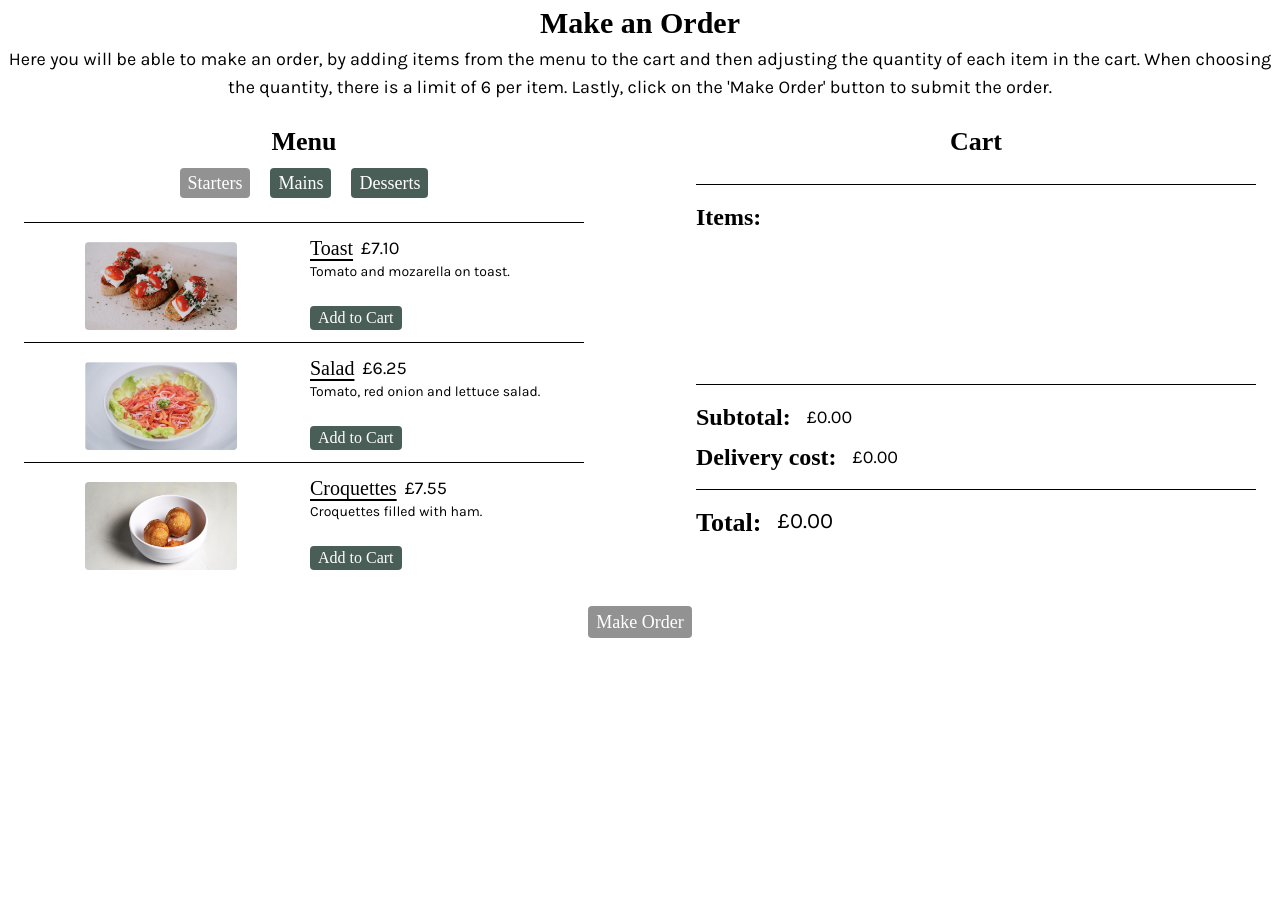
MakeAnOrder › displays Cart correctly, when a menu item is added to the cart.
Click the button "Add to Cart" below "Tomato and mozarella on toast." at (356, 318), box top-left (310, 306), bottom-right (402, 330)
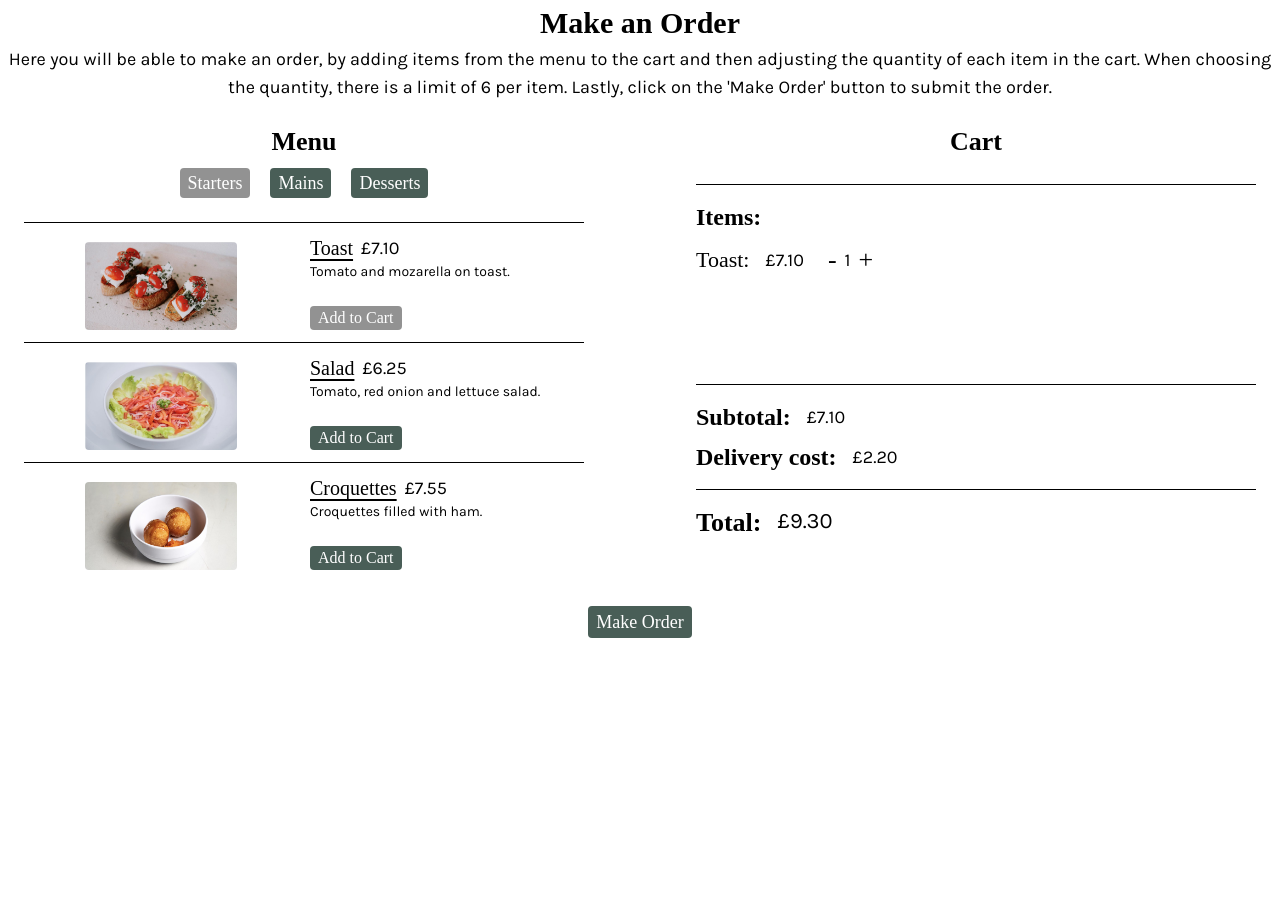
expect the element with test id "order-items-section" reads "Toast: £7.10 - 1 +": met, box top-left (696, 241), bottom-right (881, 279)
expect the text "Toast:" is shown: met, box top-left (696, 245), bottom-right (750, 275)
expect the text "£7.10" below "Items:" is shown: met, box top-left (766, 246), bottom-right (804, 274)
